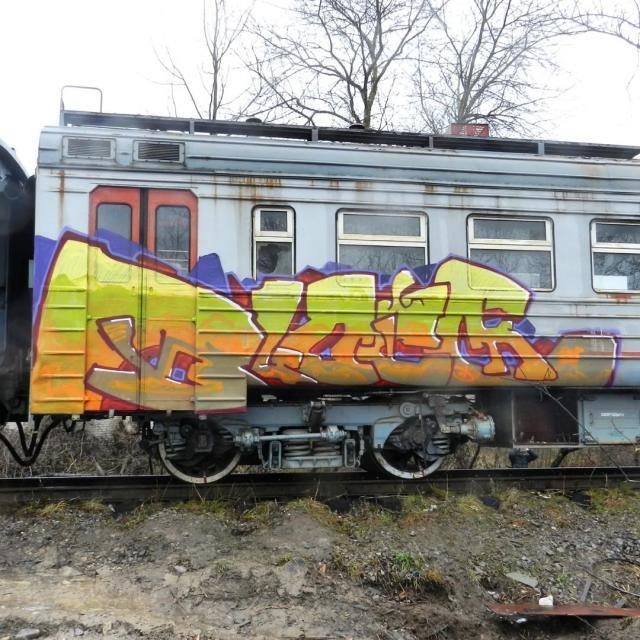-: (38, 224, 622, 409)
